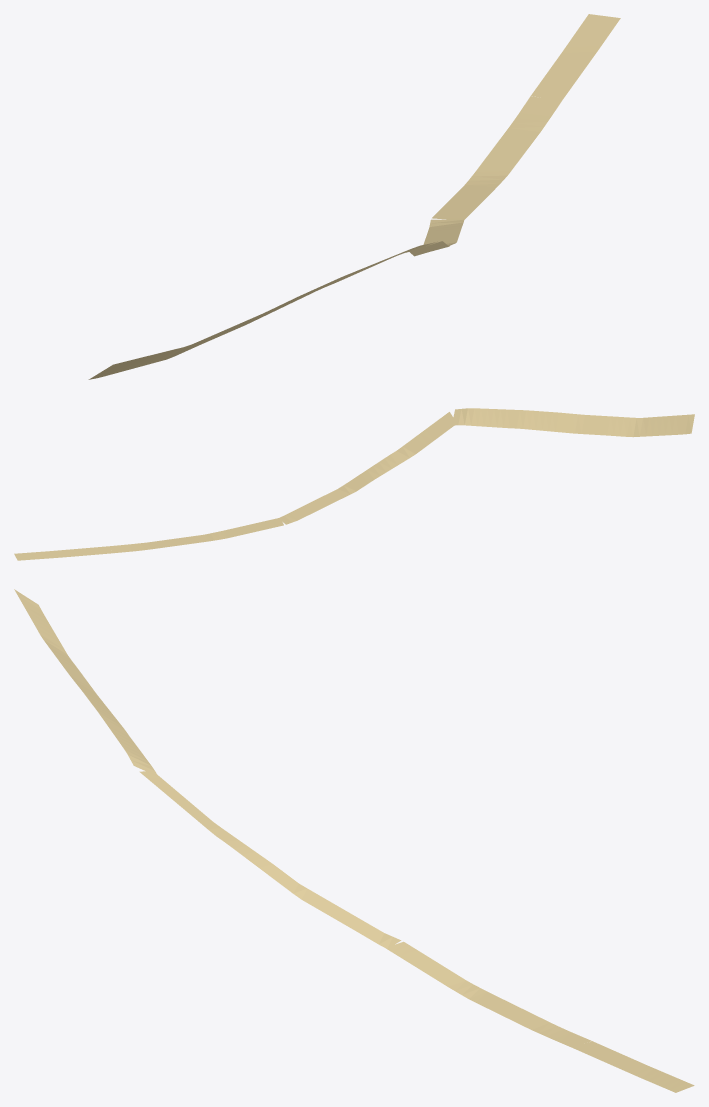
Rendered from Trail_02.glb.
The picture shows the model from 3 angles, top to bottom: view 1: azimuth 30°, elevation 25°; view 2: azimuth 150°, elevation 25°; view 3: azimuth 270°, elevation 25°; orthographic projection. The views are drawn at different scales.
Parts seen in each view (by area): view 1: Trail_02; view 2: Trail_02; view 3: Trail_02.
Boxes of the visible parts, x1=… form: Trail_02: x1=88, y1=14, x2=620, y2=379; Trail_02: x1=14, y1=408, x2=694, y2=560; Trail_02: x1=14, y1=589, x2=694, y2=1092.
Bounding box in the file's own units: 56.74 × 11.38 × 45.76.
